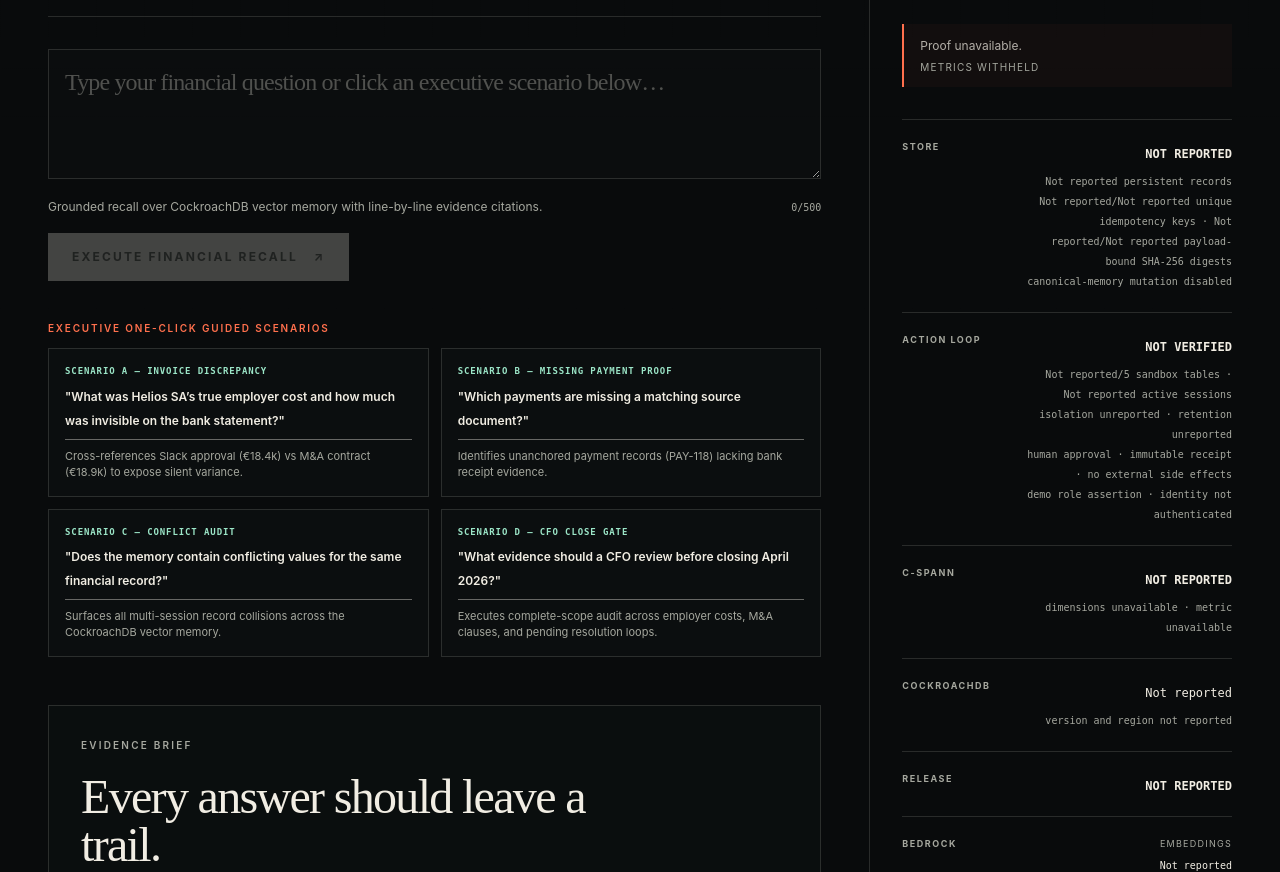
Test case: App › renders every failed boundary without substituting stale data
(page scrolled)
Expected: the text "Proof unavailable." is shown, [920,38,1022,53]
Click the button "true employer cost": (238, 422) [48,348,429,497]
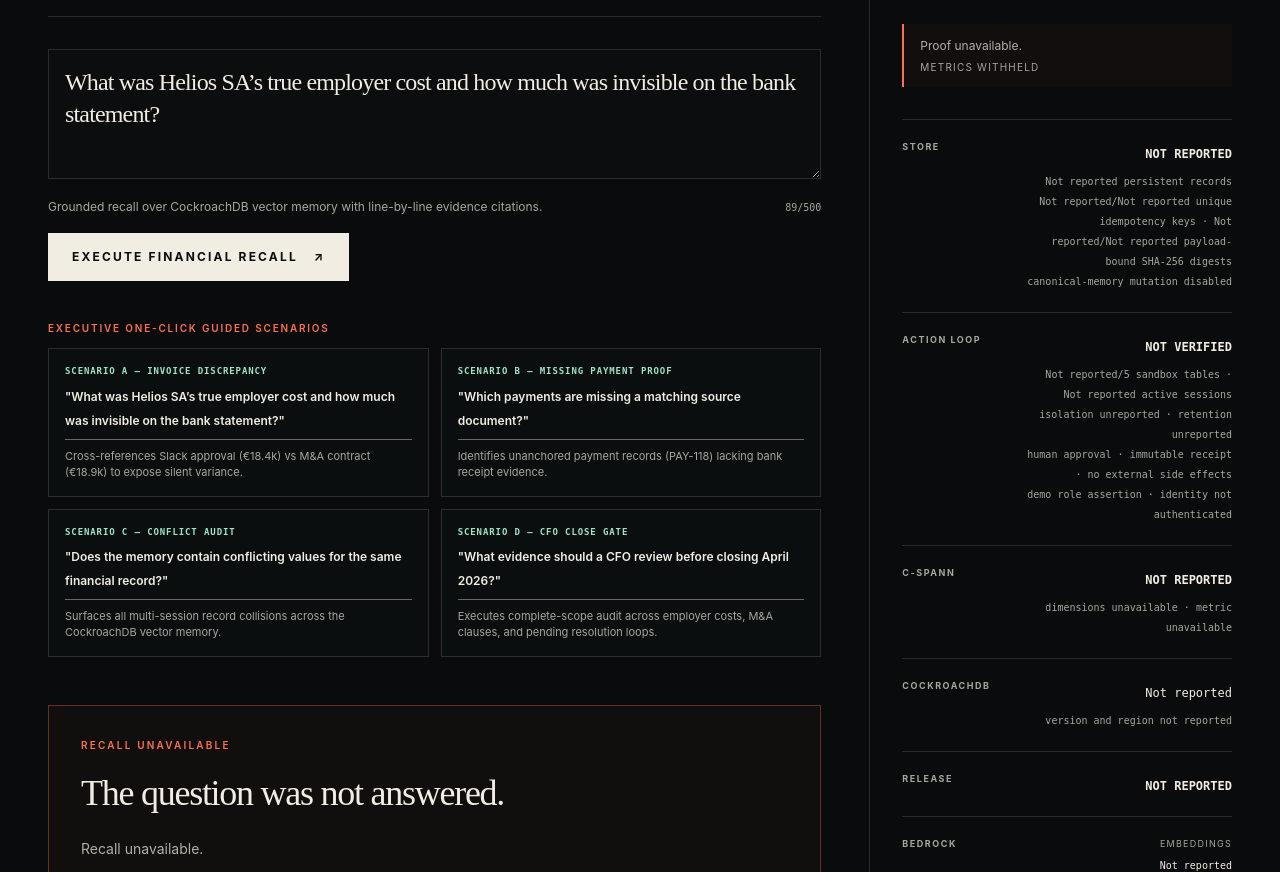
Expected: the text "Recall unavailable." is shown, [81,840,203,857]
